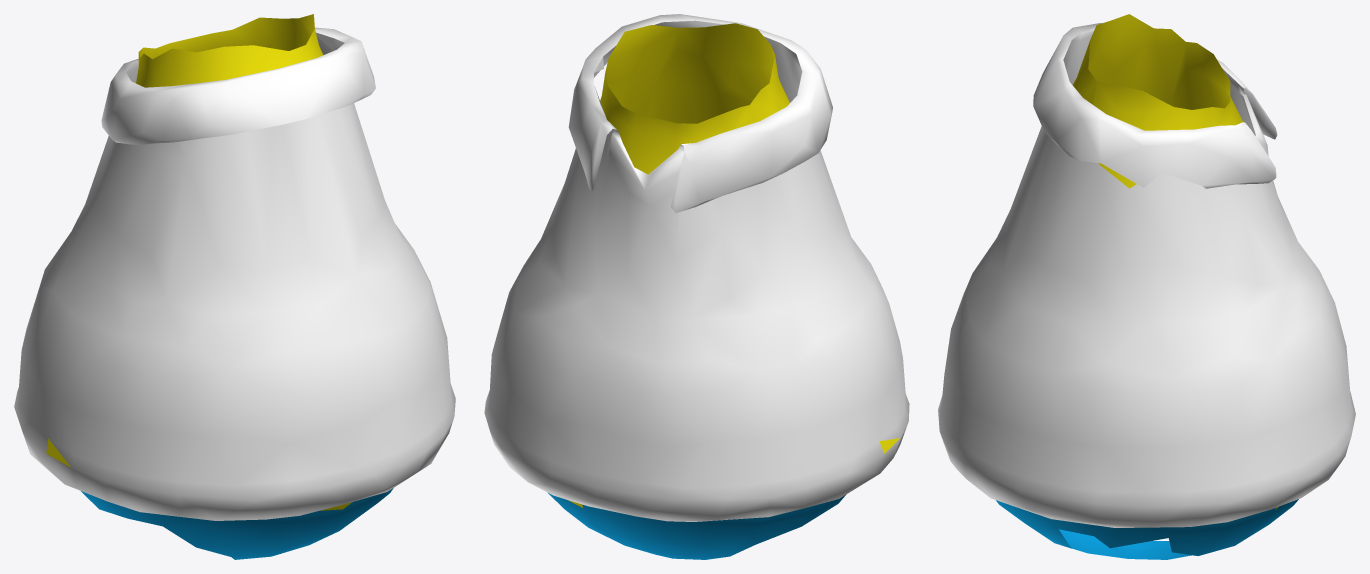
The model's file is torso1.obj.
The picture shows the model from 3 angles, left to right: view 1: azimuth 30°, elevation 25°; view 2: azimuth 150°, elevation 25°; view 3: azimuth 270°, elevation 25°; orthographic projection. The views are drawn at different scales.
Parts seen in each view (by area): view 1: torso1:Mesh; view 2: torso1:Mesh; view 3: torso1:Mesh.
Boxes of the visible parts, x1,y1,x2,y2 form: torso1:Mesh: (14,14,455,559); torso1:Mesh: (484,14,909,559); torso1:Mesh: (938,14,1355,559).
Size of the model in its own units: 1.39 by 1.81 by 1.35.
3 materials, 3 textured.
